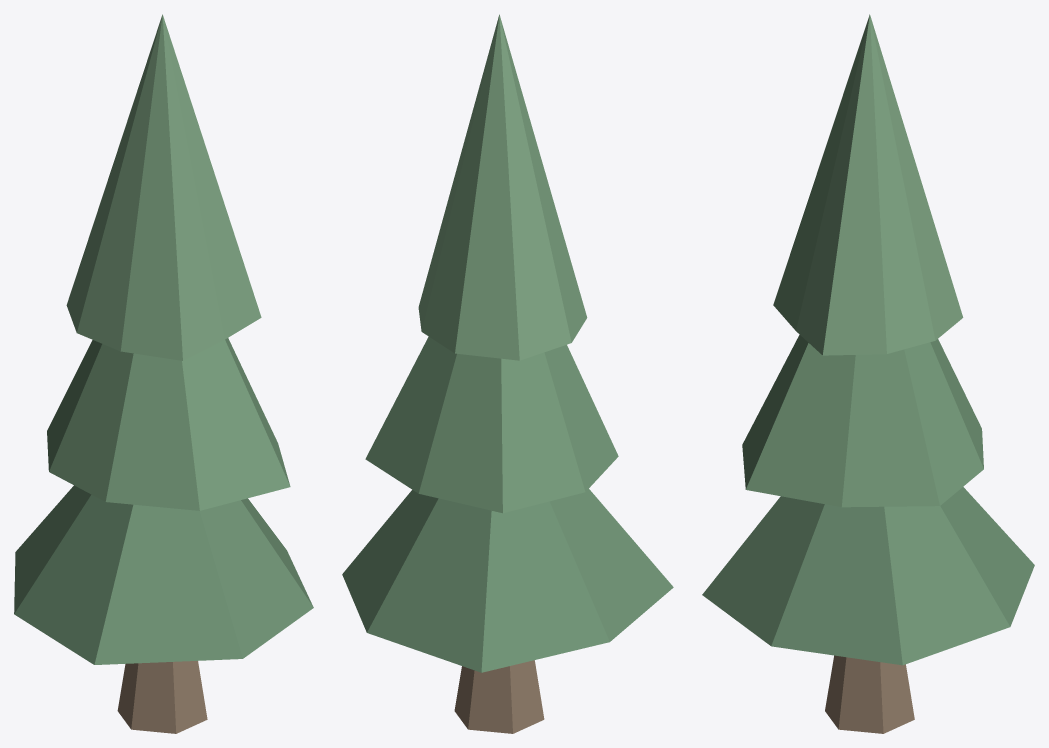
Rendered from tree_conifer.glb.
3 views of the same model, side by side, from view 1: azimuth 30°, elevation 25°; view 2: azimuth 150°, elevation 25°; view 3: azimuth 270°, elevation 25° (orthographic).
Parts seen in each view (by area): view 1: Foliage0, Foliage2, Foliage1, Trunk; view 2: Foliage0, Foliage2, Foliage1, Trunk; view 3: Foliage0, Foliage2, Foliage1, Trunk.
Boxes of the visible parts, x1,y1,x2,y2 form: Foliage0: (14, 485, 313, 664); Foliage2: (66, 14, 261, 360); Foliage1: (47, 338, 290, 510); Trunk: (117, 661, 207, 733); Foliage0: (342, 489, 673, 672); Foliage2: (418, 14, 587, 360); Foliage1: (365, 336, 618, 513); Trunk: (454, 660, 544, 733); Foliage0: (702, 487, 1034, 665); Foliage2: (773, 14, 963, 355); Foliage1: (742, 334, 983, 507); Trunk: (825, 655, 914, 733).
Size of the model in its own units: 4.19 by 10.4 by 4.47.
